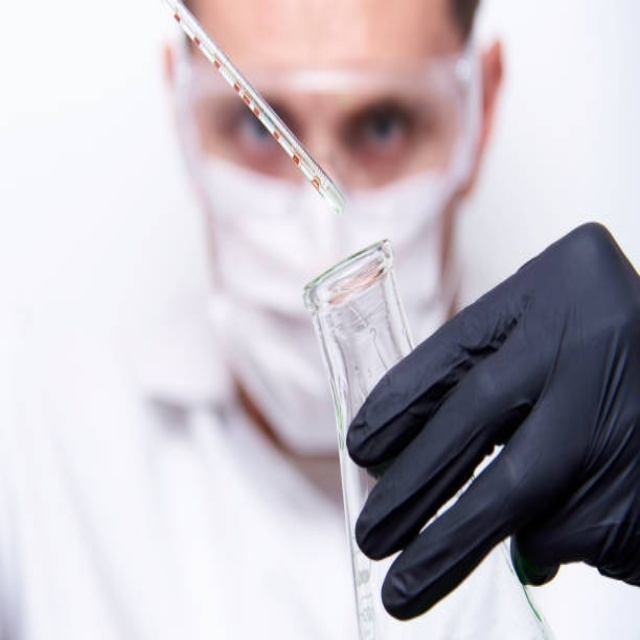Gafas: (172, 24, 474, 209)
Guantes: (345, 221, 638, 619)
Mascara: (173, 140, 455, 444)
